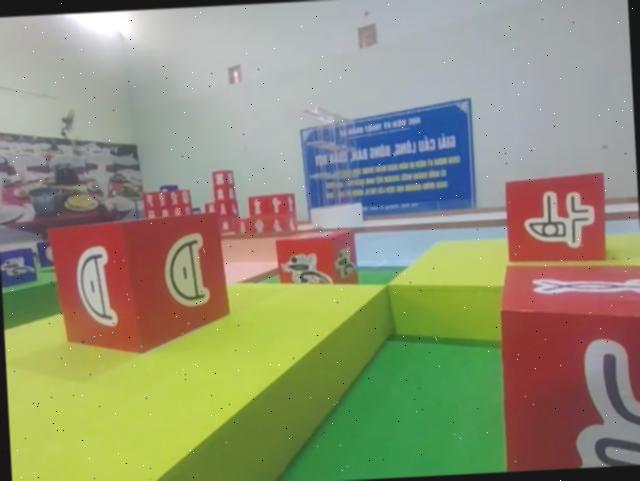R1: (274, 229, 356, 298)
R2 Real: (48, 208, 230, 364), (498, 169, 611, 268)
